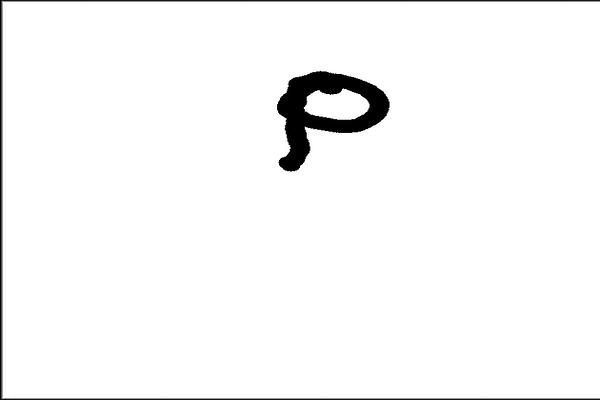P: (262, 63, 395, 183)
